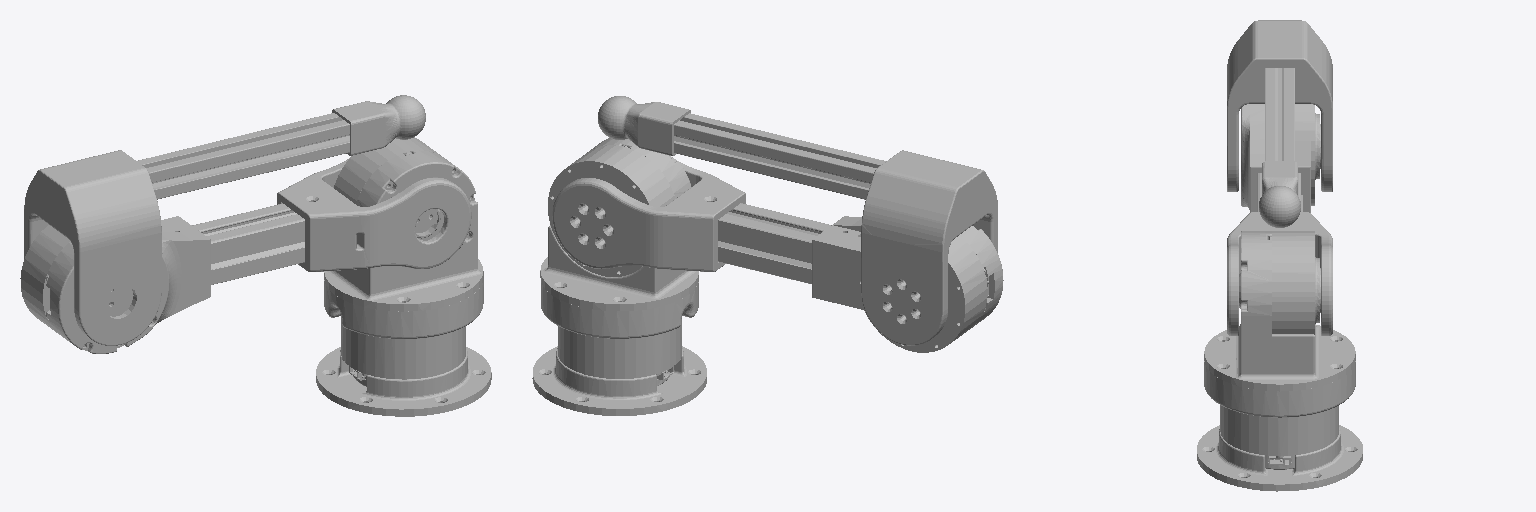
robot.urdf — RAVEN:
<?xml version="1.0" encoding="utf-8"?>
<!-- This URDF was automatically created by SolidWorks to URDF Exporter! Originally created by Stephen Brawner (brawner@gmail.com) 
     Commit Version: 1.6.0-4-g7f85cfe  Build Version: 1.6.7995.38578
     For more information, please see http://wiki.ros.org/sw_urdf_exporter -->
<robot
  name="RAVEN">
  <link
    name="base_link">
    <inertial>
      <origin
        xyz="0.000135180217880393 -1.17644028071497E-06 0.0218654560965951"
        rpy="0 0 0" />
      <mass
        value="0.24552070353348" />
      <inertia
        ixx="0.000139107176438768"
        ixy="-1.24417069867494E-08"
        ixz="-2.86075564744803E-07"
        iyy="0.000133683116485187"
        iyz="2.41046355485852E-09"
        izz="0.000219518135807073" />
    </inertial>
    <visual>
      <origin
        xyz="0 0 0"
        rpy="0 0 0" />
      <geometry>
        <mesh
          filename="../meshes/base_link.STL" />
      </geometry>
      <material
        name="">
        <color
          rgba="0.752941176470588 0.752941176470588 0.752941176470588 1" />
      </material>
    </visual>
    <collision>
      <origin
        xyz="0 0 0"
        rpy="0 0 0" />
      <geometry>
        <mesh
          filename="../meshes/base_link.STL" />
      </geometry>
    </collision>
  </link>
  <link
    name="shoulder_link">
    <inertial>
      <origin
        xyz="0.000168260272886522 -0.00040845047063651 0.0458708184902644"
        rpy="0 0 0" />
      <mass
        value="0.430665397462828" />
      <inertia
        ixx="0.000302813515167828"
        ixy="2.55071769255206E-10"
        ixz="2.19436659719587E-07"
        iyy="0.000384197786303007"
        iyz="2.48139872627777E-05"
        izz="0.000387931332540381" />
    </inertial>
    <visual>
      <origin
        xyz="0 0 0"
        rpy="0 0 0" />
      <geometry>
        <mesh
          filename="../meshes/shoulder_link.STL" />
      </geometry>
      <material
        name="">
        <color
          rgba="0.752941176470588 0.752941176470588 0.752941176470588 1" />
      </material>
    </visual>
    <collision>
      <origin
        xyz="0 0 0"
        rpy="0 0 0" />
      <geometry>
        <mesh
          filename="../meshes/shoulder_link.STL" />
      </geometry>
    </collision>
  </link>
  <joint
    name="shoulder_Joint"
    type="revolute">
    <origin
      xyz="0 0 0.0504"
      rpy="0 0 0" />
    <parent
      link="base_link" />
    <child
      link="shoulder_link" />
    <axis
      xyz="0 0 1" />
    <limit
      lower="-3.14"
      upper="3.14"
      effort="0"
      velocity="0" />
  </joint>
  <link
    name="upperArm_link">
    <inertial>
      <origin
        xyz="-0.161778684178383 -0.027362923797556 -5.40396077852306E-05"
        rpy="0 0 0" />
      <mass
        value="0.41988933274855" />
      <inertia
        ixx="0.000235494315900477"
        ixy="-2.16848804254193E-05"
        ixz="5.35981963365909E-09"
        iyy="0.00043094043867717"
        iyz="-3.73332186967083E-10"
        izz="0.000420759190691544" />
    </inertial>
    <visual>
      <origin
        xyz="0 0 0"
        rpy="0 0 0" />
      <geometry>
        <mesh
          filename="../meshes/upperArm_link.STL" />
      </geometry>
      <material
        name="">
        <color
          rgba="0.752941176470588 0.752941176470588 0.752941176470588 1" />
      </material>
    </visual>
    <collision>
      <origin
        xyz="0 0 0"
        rpy="0 0 0" />
      <geometry>
        <mesh
          filename="../meshes/upperArm_link.STL" />
      </geometry>
    </collision>
  </link>
  <joint
    name="upperArm_Joint"
    type="revolute">
    <origin
      xyz="0 0.027 0.07"
      rpy="0 0 0" />
    <parent
      link="shoulder_link" />
    <child
      link="upperArm_link" />
    <axis
      xyz="0 1 0" />
    <limit
      lower="0"
      upper="3.14"
      effort="0"
      velocity="0" />
  </joint>
  <link
    name="foreArm_link">
    <inertial>
      <origin
        xyz="0.0326979274237842 -0.0265302108131705 0.0455755672877358"
        rpy="0 0 0" />
      <mass
        value="0.210338139477223" />
      <inertia
        ixx="0.000217945923640569"
        ixy="-1.09410906733934E-07"
        ixz="3.59257953883381E-06"
        iyy="0.000271694167213393"
        iyz="4.04298660092369E-06"
        izz="0.000241183247775798" />
    </inertial>
    <visual>
      <origin
        xyz="0 0 0"
        rpy="0 0 0" />
      <geometry>
        <mesh
          filename="../meshes/foreArm_link.STL" />
      </geometry>
      <material
        name="">
        <color
          rgba="0.752941176470588 0.752941176470588 0.752941176470588 1" />
      </material>
    </visual>
    <collision>
      <origin
        xyz="0 0 0"
        rpy="0 0 0" />
      <geometry>
        <mesh
          filename="../meshes/foreArm_link.STL" />
      </geometry>
    </collision>
  </link>
  <joint
    name="foreArm_Joint"
    type="revolute">
    <origin
      xyz="-0.225 -2.5E-05 -7.5E-05"
      rpy="0 0 0" />
    <parent
      link="upperArm_link" />
    <child
      link="foreArm_link" />
    <axis
      xyz="0 -1 0" />
    <limit
      lower="0"
      upper="3.14"
      effort="0"
      velocity="0" />
  </joint>
</robot>

--- Facts derived from the render (not from the file) ---
The picture shows the robot from 3 angles, left to right: view 1: azimuth 30°, elevation 25°; view 2: azimuth 150°, elevation 25°; view 3: azimuth 270°, elevation 25°; orthographic projection.
Robot: RAVEN — 4 links, 3 joints (3 revolute); root link base_link; default pose: every joint at zero.
Visible links, largest first — view 1: foreArm_link, upperArm_link, shoulder_link, base_link; view 2: foreArm_link, upperArm_link, shoulder_link, base_link; view 3: shoulder_link, foreArm_link, base_link, upperArm_link.
Link boxes in pixels (x1,y1,x2,y2): foreArm_link: (24, 95, 425, 345); upperArm_link: (20, 158, 471, 353); shoulder_link: (324, 137, 483, 338); base_link: (316, 316, 491, 416); foreArm_link: (598, 96, 997, 345); upperArm_link: (552, 156, 1003, 352); shoulder_link: (540, 138, 698, 338); base_link: (532, 319, 706, 415); shoulder_link: (1204, 231, 1355, 417); foreArm_link: (1227, 20, 1332, 227); base_link: (1197, 405, 1362, 491); upperArm_link: (1227, 104, 1332, 335).
Bounding box of the posed robot: 0.3192 × 0.11 × 0.1983 m (x, y, z).
4 mesh visuals loaded from 4 distinct referenced files (4 binary STL).
